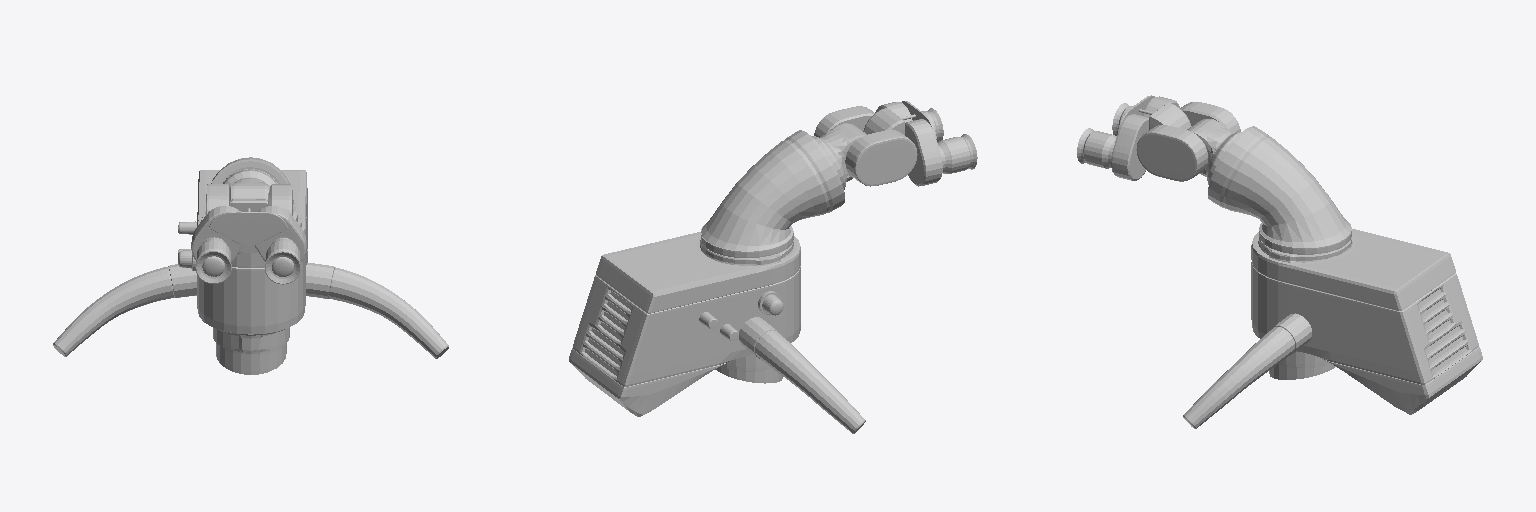
File: microscope.obj
3 renders of one model, left to right at view 1: azimuth 30°, elevation 25°; view 2: azimuth 150°, elevation 25°; view 3: azimuth 270°, elevation 25°, orthographic.
Visible parts, largest first — view 1: Circle.003_Circle.016; view 2: Circle.003_Circle.016; view 3: Circle.003_Circle.016.
Boxes of the visible parts, x1=… form: Circle.003_Circle.016: x1=53, y1=157, x2=448, y2=374; Circle.003_Circle.016: x1=569, y1=101, x2=977, y2=433; Circle.003_Circle.016: x1=1077, y1=95, x2=1482, y2=428.
Bounding box in the file's own units: 14.44 × 10.67 × 17.06.